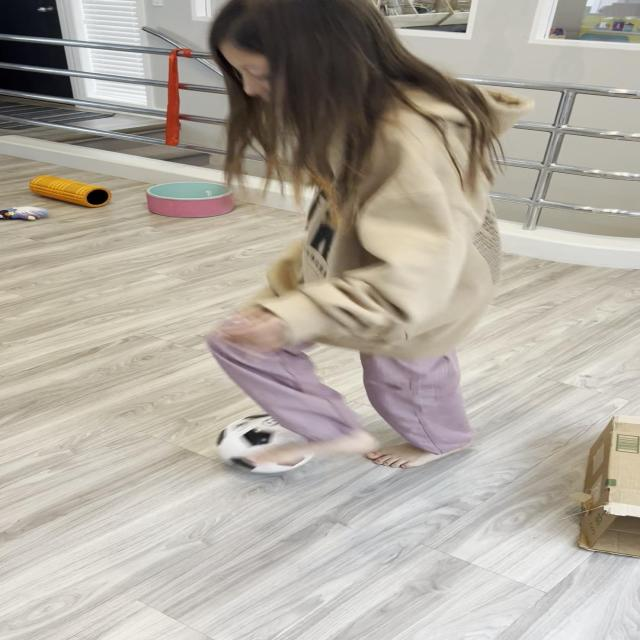Soccer Ball: (213, 413, 320, 474)
